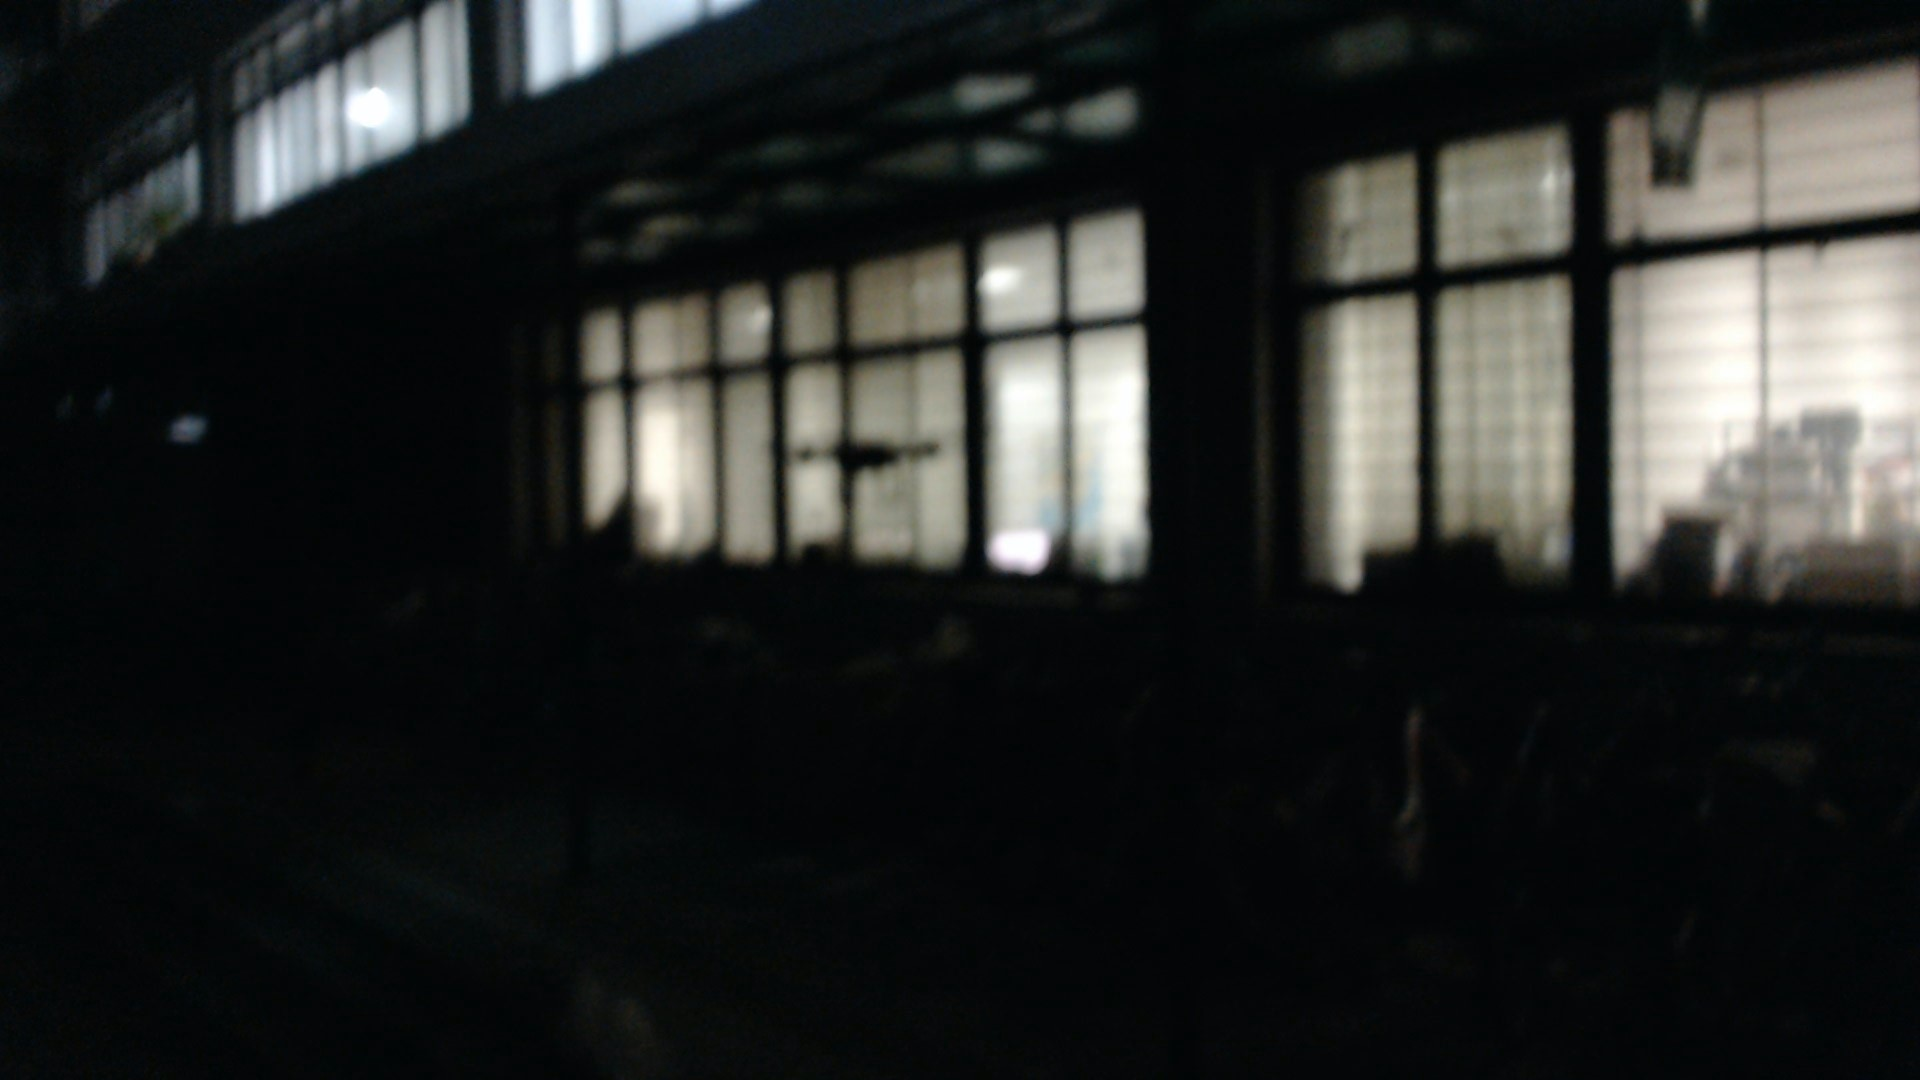test_drone: (760, 423, 951, 516)
